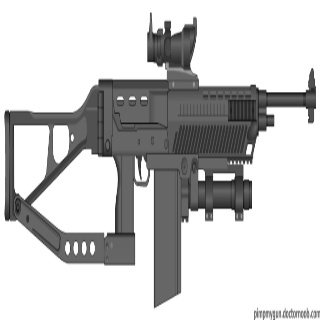rifle: (3, 12, 318, 309)
